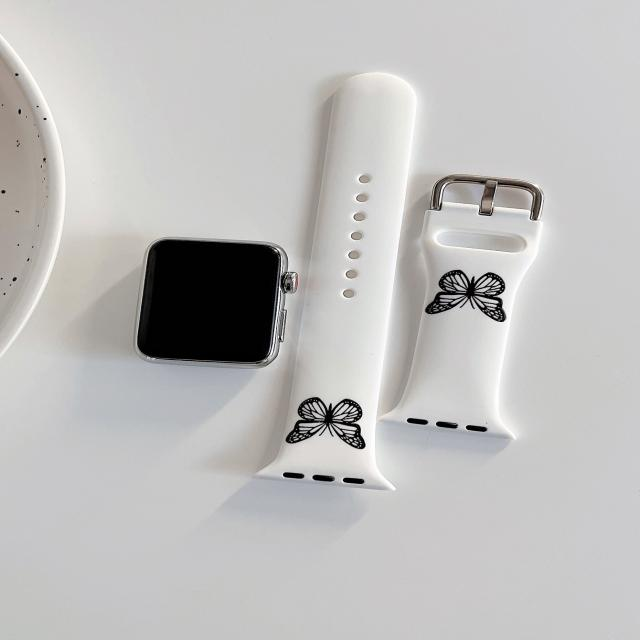bracelet: (118, 32, 640, 510)
